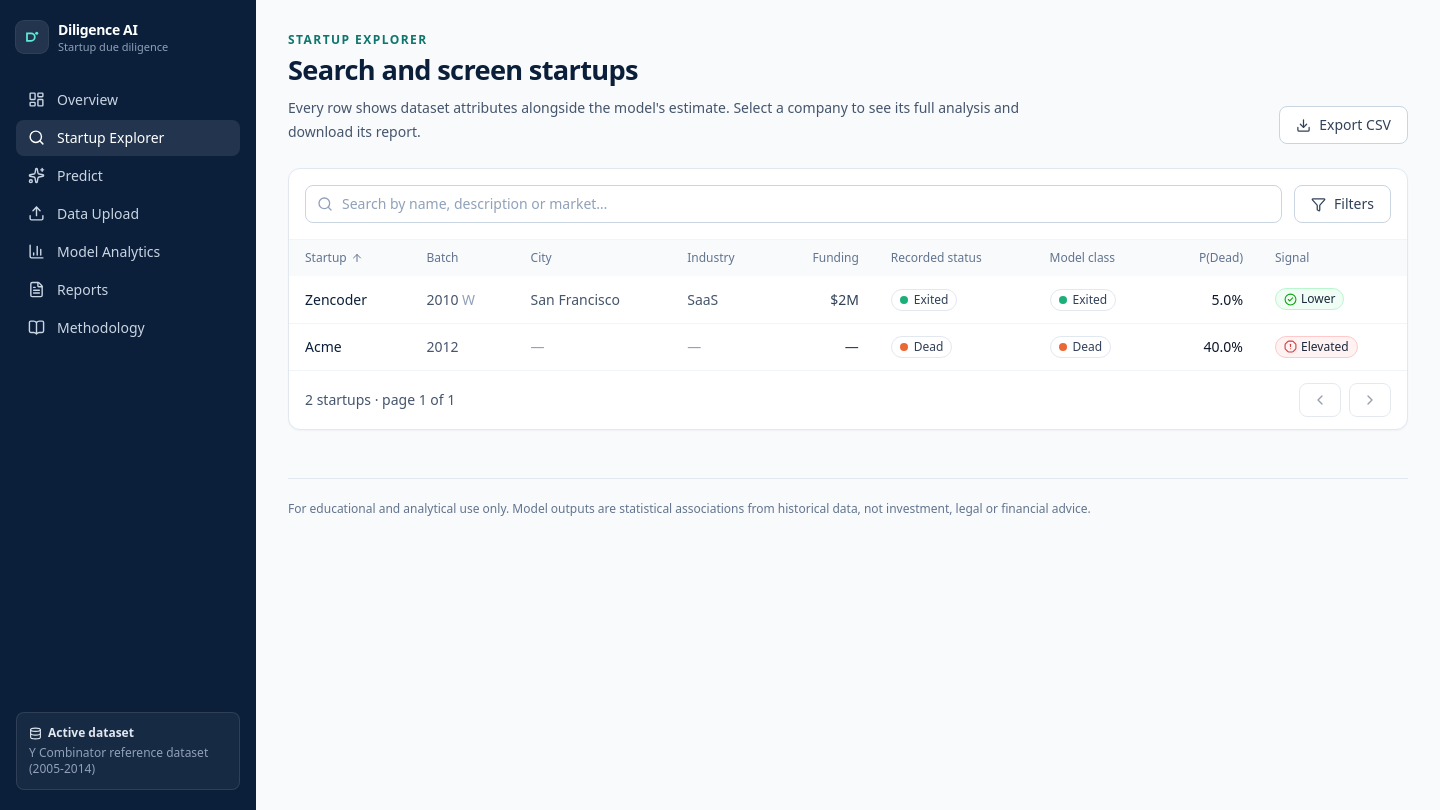
Test: explorer › passes the search text to the API
Check: the table with test id "startup-table" is shown, box [289,240,1407,370]
Type "zen" into the field with test id "explorer-search" at (794, 204), box [305,185,1282,223]
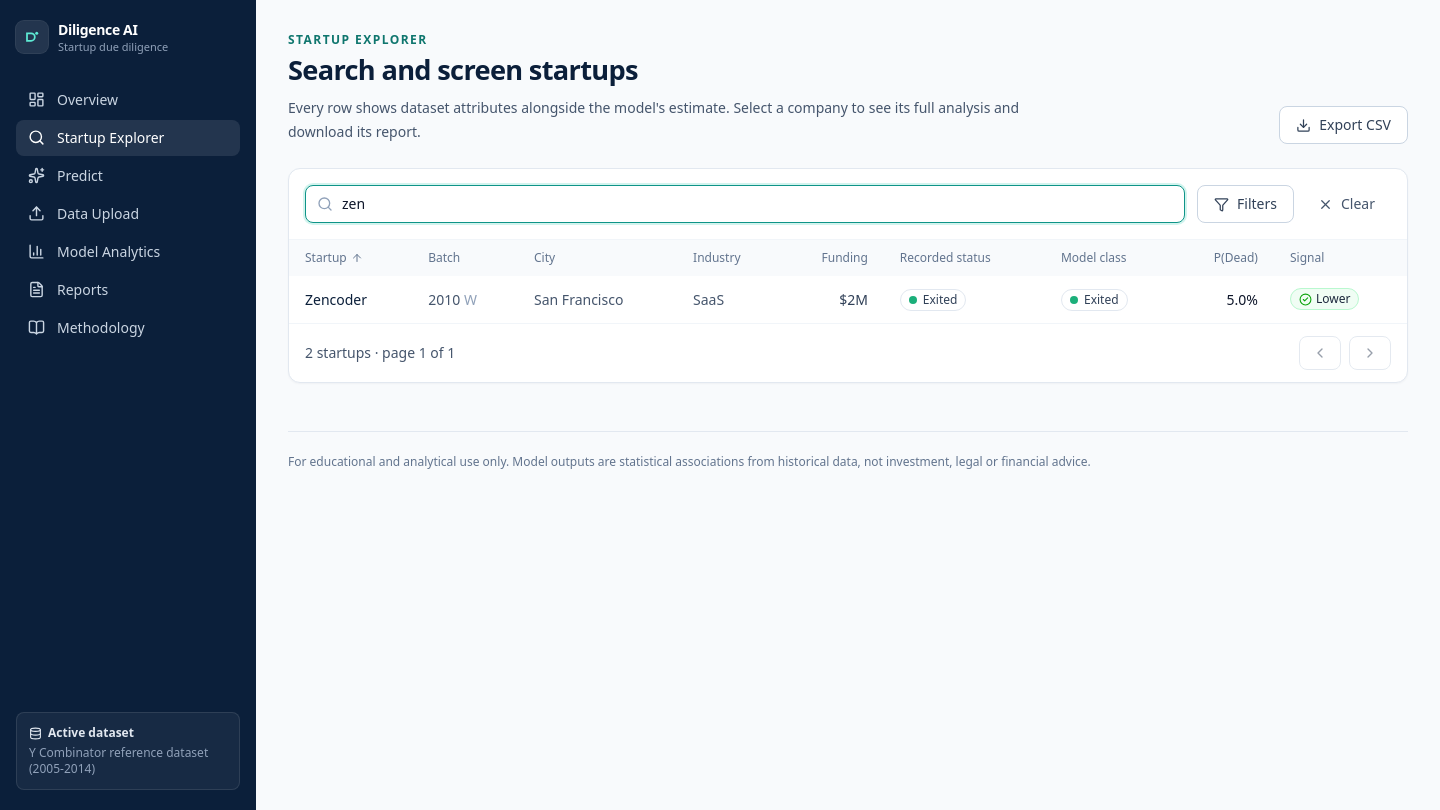
Check: the link "Acme" is gone
